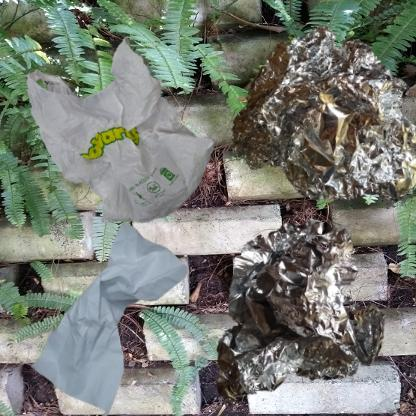aluminio: (213, 10, 416, 232), (213, 213, 392, 416)
bolsa: (10, 10, 269, 293)
papel: (10, 213, 215, 416)
